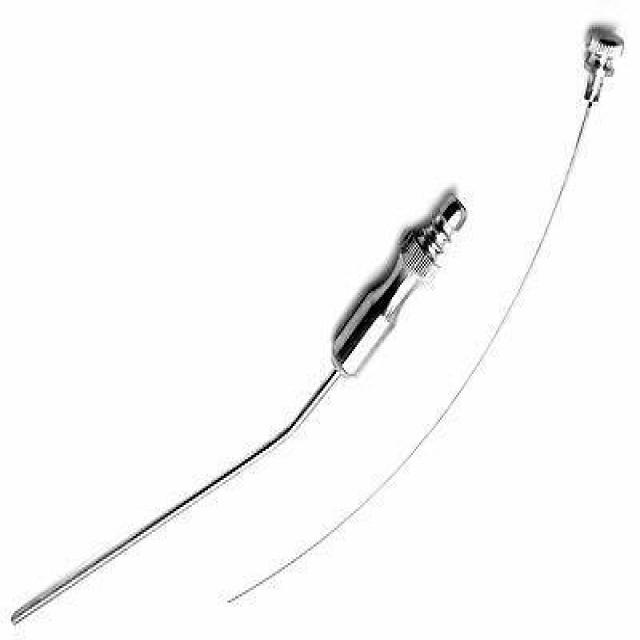Frazier: (8, 187, 469, 628)
